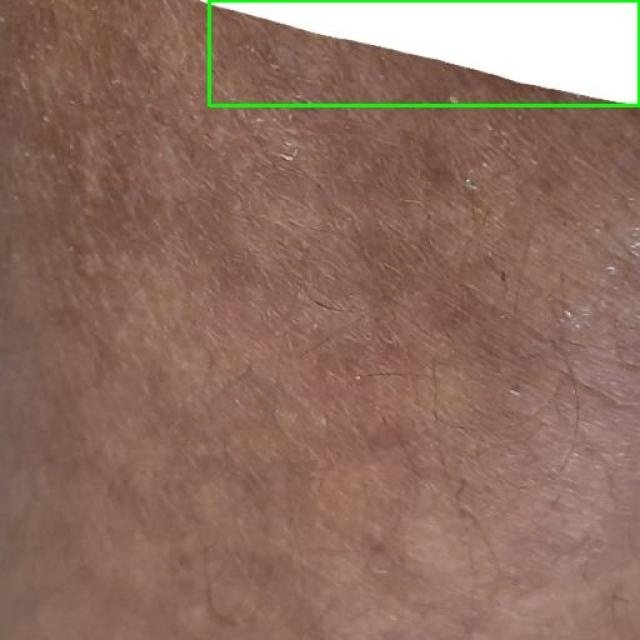Contact Dermatitis: (209, 0, 639, 105)
